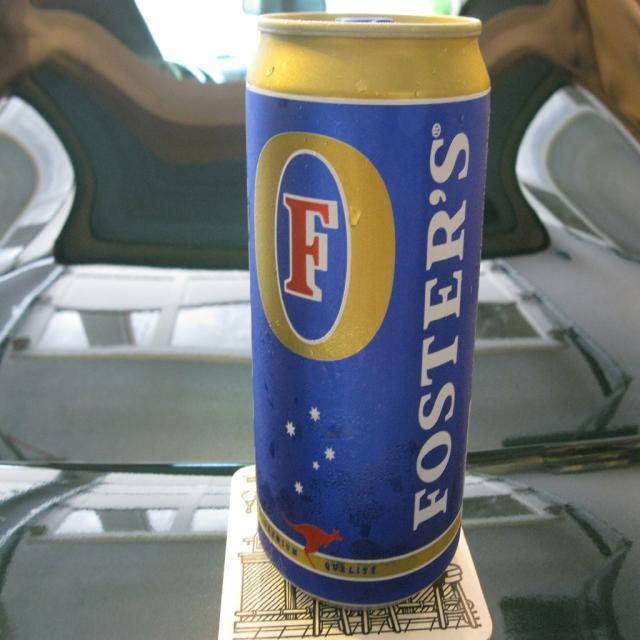fosters: (254, 128, 399, 367)
